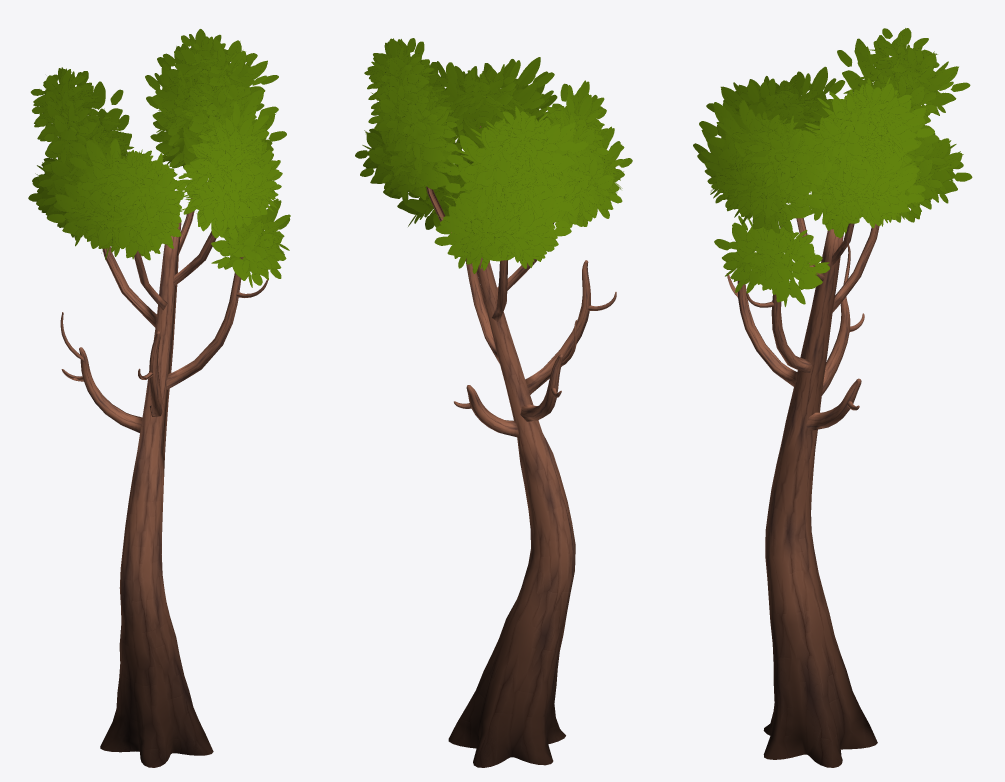
Rendered from CommonTree_4.gltf.
The picture shows the model from 3 angles, left to right: view 1: azimuth 30°, elevation 25°; view 2: azimuth 150°, elevation 25°; view 3: azimuth 270°, elevation 25°; orthographic projection. The views are drawn at different scales.
Visible parts, largest first — view 1: CommonTree_4; view 2: CommonTree_4; view 3: CommonTree_4.
Boxes of the visible parts, x1,y1,x2,y2 form: CommonTree_4: (28, 29, 290, 767); CommonTree_4: (355, 38, 632, 767); CommonTree_4: (693, 28, 972, 767).
Bounding box in the file's own units: 3.83 × 9.44 × 3.76.
2 materials, 2 textured.
